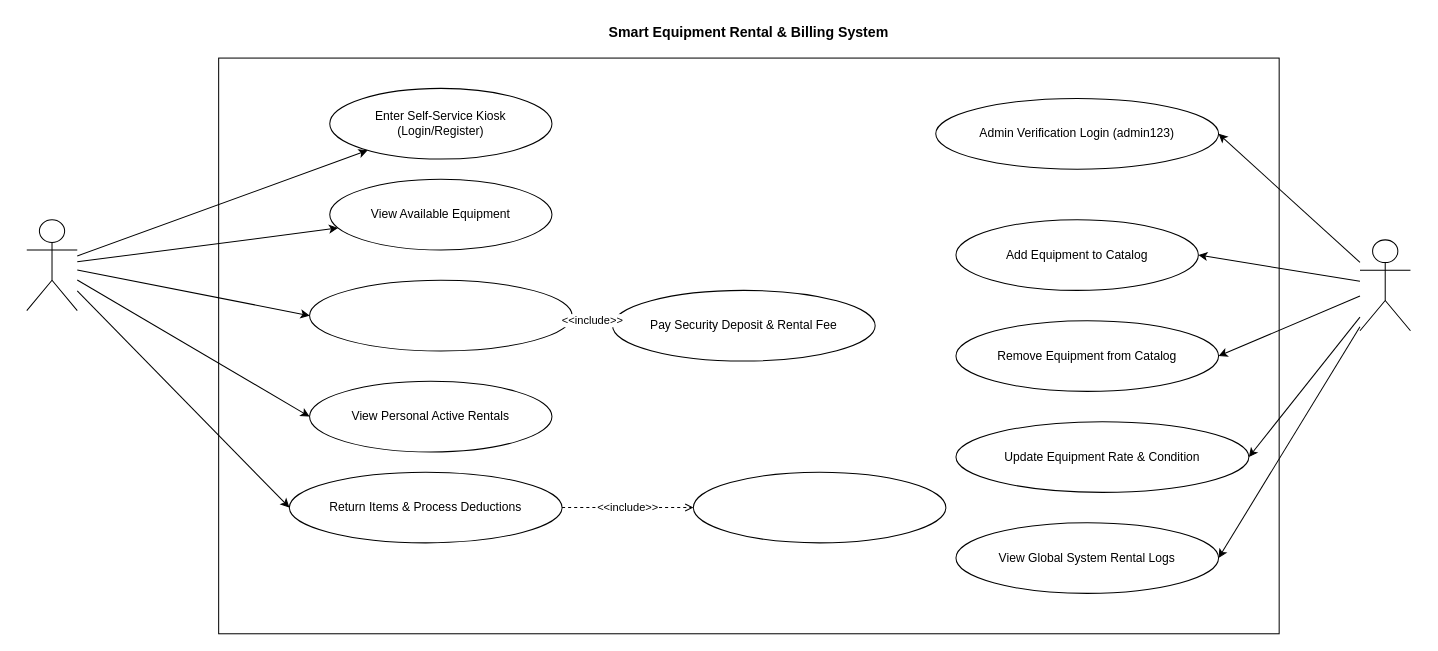
Image size: 1438x651. Some labels were removed from this diagram. Here are the shapes that lost their labels. From the top down, the box of each, then its label:
(26, 219, 77, 311): Student/Staff (Renter)
(1359, 239, 1410, 331): Administrator
(309, 279, 572, 351): Select & Checkout Multiple Items
(692, 471, 946, 543): Settle Refund / Balance Invoice
